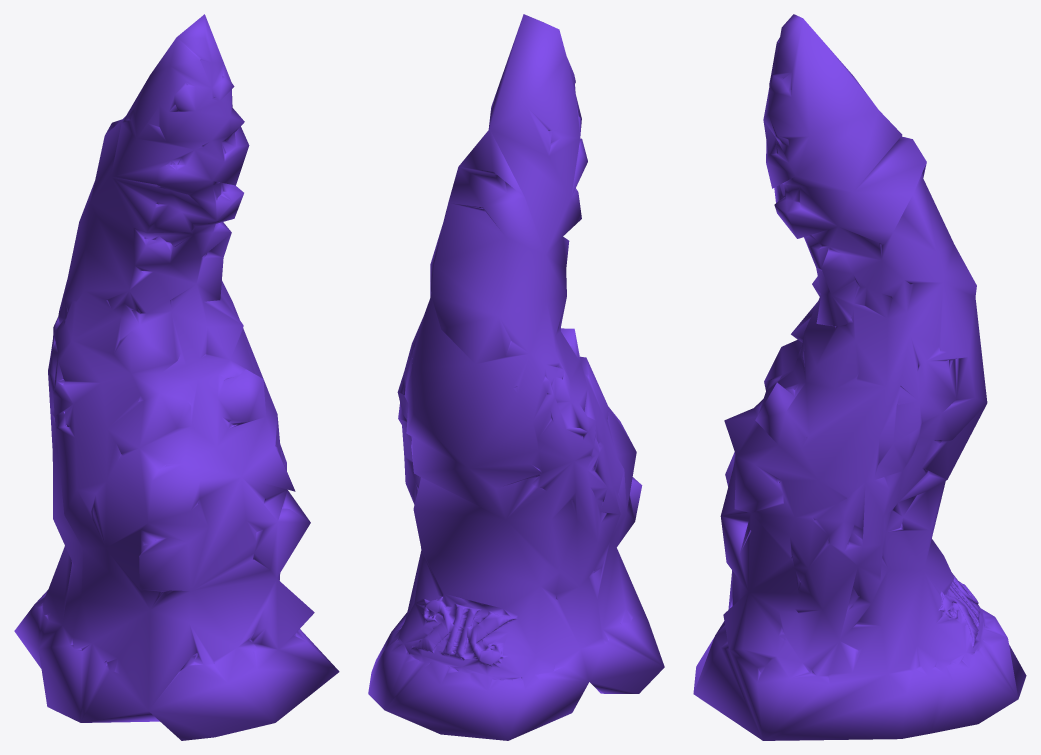
File: large-suction-ar.glb
3 views of the same model, side by side, from view 1: azimuth 30°, elevation 25°; view 2: azimuth 150°, elevation 25°; view 3: azimuth 270°, elevation 25° (orthographic). The views are drawn at different scales.
Bounding box in the file's own units: 0.1123 × 0.2841 × 0.1281.
